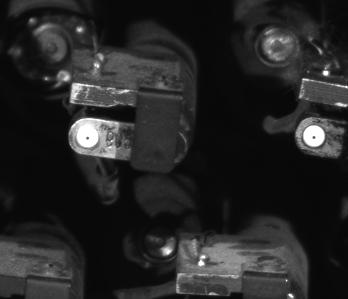fiber: (68, 122, 104, 154), (297, 120, 331, 153)
